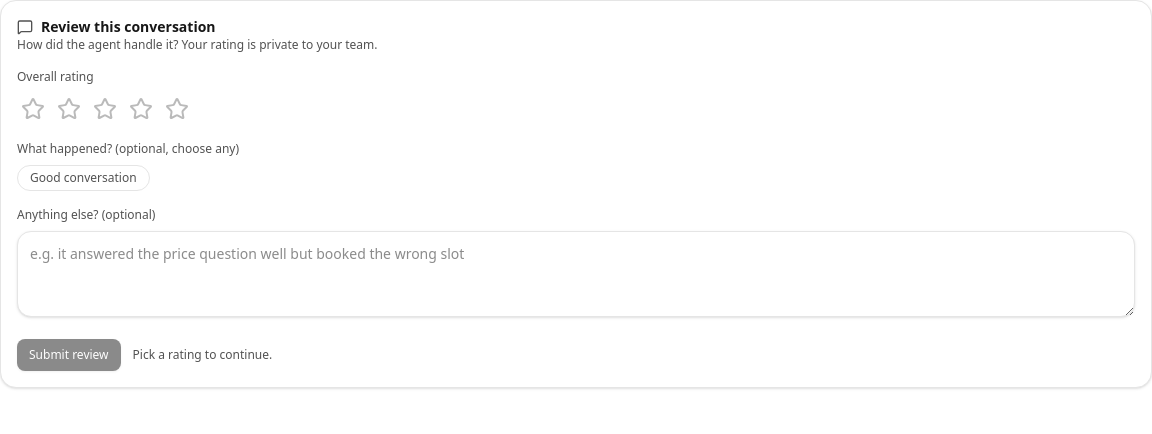
Test: a saved review confirms the save without announcing an award
This screenshot has width=1152, height=434.
Click the radio button named "4 out of 5" at x=141, y=109, box [125,93,157,125]
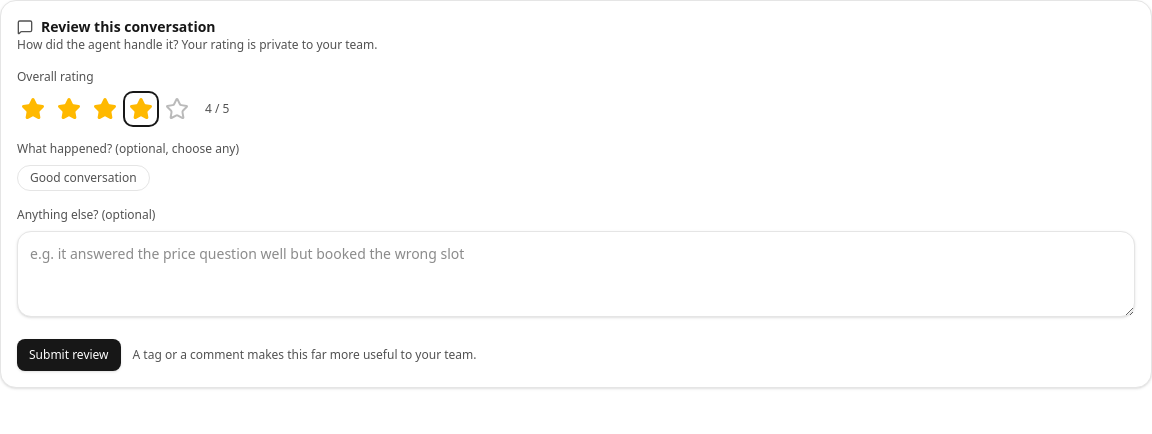
Click the button "Submit review" at x=69, y=355, box [17,339,121,371]
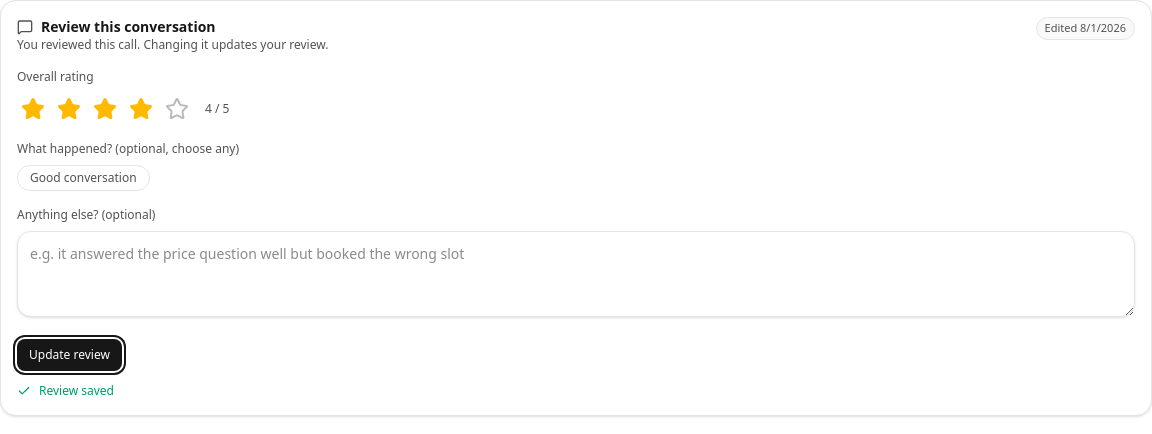
Check: the text "Review saved" is shown, box [17,382,114,399]
